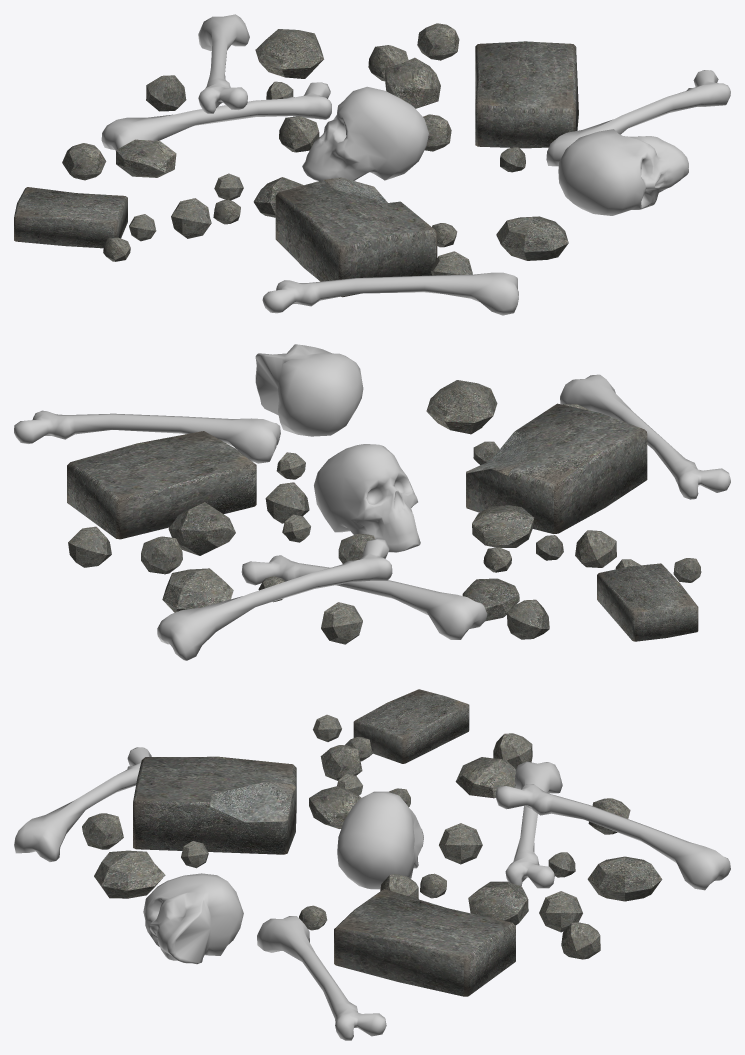
Rendered from Debris_1.FBX.
3 views of the same model, one above another, from view 1: azimuth 30°, elevation 25°; view 2: azimuth 150°, elevation 25°; view 3: azimuth 270°, elevation 25° (orthographic). The views are drawn at different scales.
Parts seen in each view (by area): view 1: Box04; view 2: Box04; view 3: Box04.
Part boxes in pixels (bbox=[...]): Box04: bbox=[14, 14, 730, 315]; Box04: bbox=[14, 344, 730, 660]; Box04: bbox=[14, 689, 730, 1040].
Bounding box in the file's own units: 168 × 20 × 154.
